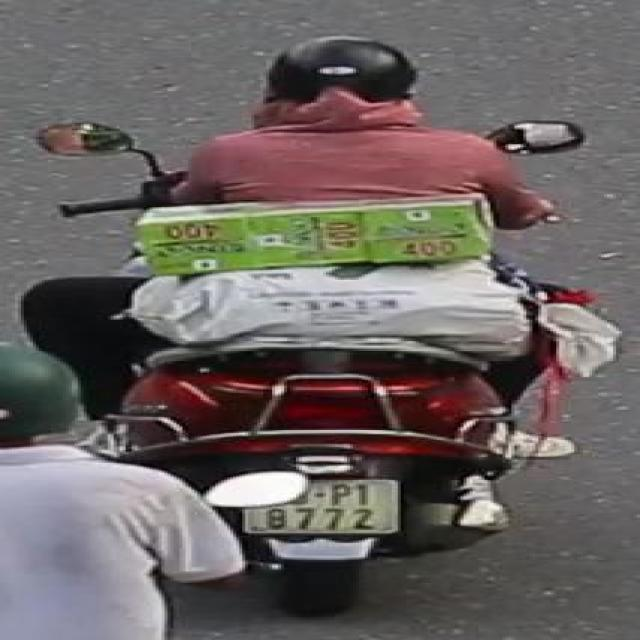LP: (278, 472, 410, 538)
helmet: (253, 32, 429, 138)
